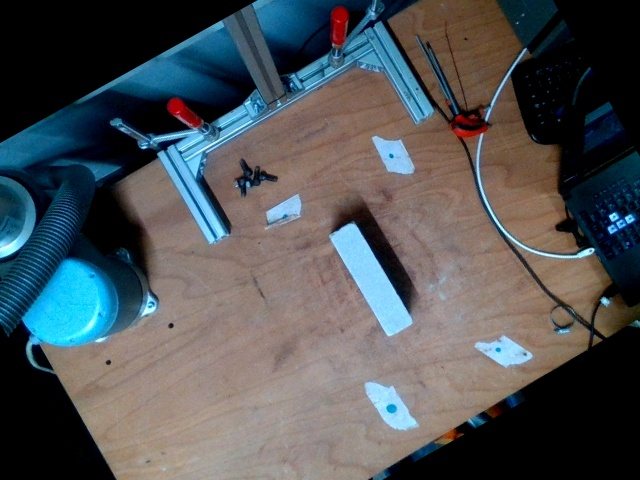brick-side: (330, 223, 414, 337)
